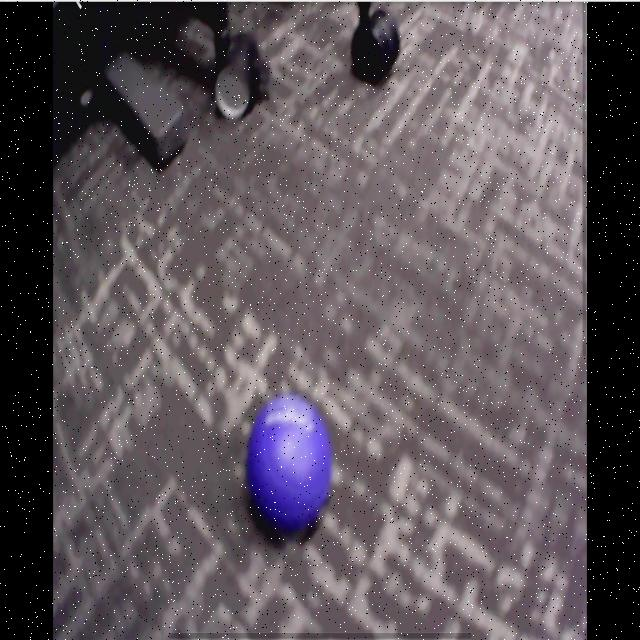ball: (250, 397, 333, 524)
